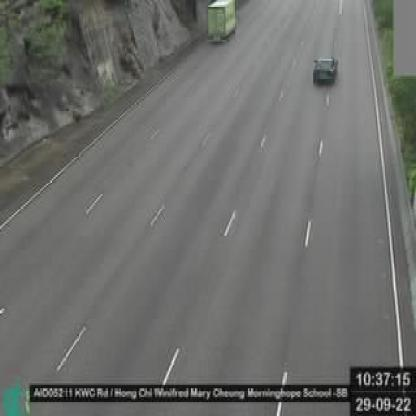Car: (305, 50, 346, 90)
Truck: (203, 0, 242, 43)
